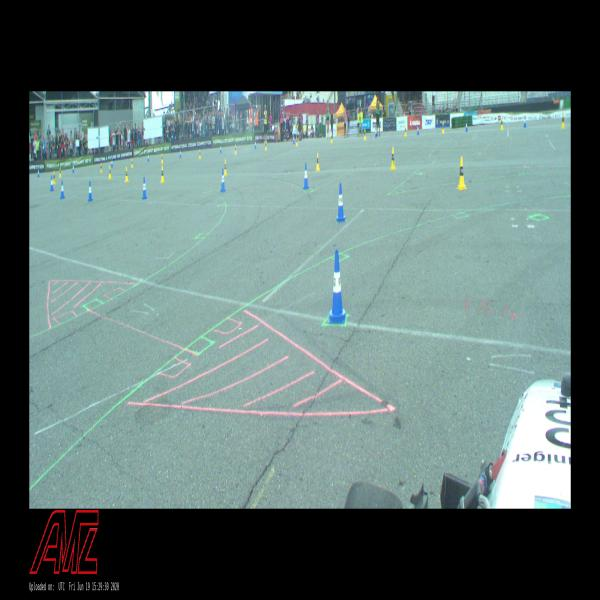blue_cone: (328, 250, 346, 323), (337, 183, 345, 221), (303, 163, 309, 189), (220, 169, 226, 192), (142, 176, 147, 200), (88, 182, 93, 202), (60, 181, 65, 199), (50, 176, 54, 191), (524, 116, 526, 127), (466, 121, 468, 131), (72, 164, 74, 173), (220, 144, 222, 153), (293, 135, 295, 144), (111, 158, 113, 167), (375, 128, 377, 137), (148, 153, 150, 161), (417, 126, 419, 134), (38, 168, 39, 176), (180, 149, 181, 157), (255, 140, 256, 148)
yellow_cone: (456, 157, 468, 189), (390, 148, 397, 169), (160, 166, 165, 182), (316, 152, 320, 171), (561, 113, 566, 128), (224, 159, 228, 176), (125, 167, 129, 182), (500, 117, 504, 130), (108, 166, 112, 179), (53, 171, 56, 183), (100, 163, 103, 173), (330, 133, 333, 143), (404, 126, 407, 136), (161, 154, 164, 163), (59, 168, 62, 176), (442, 122, 444, 134), (235, 144, 237, 155), (131, 157, 133, 168), (364, 129, 366, 140), (199, 149, 201, 159), (265, 141, 267, 151), (296, 136, 298, 146)
